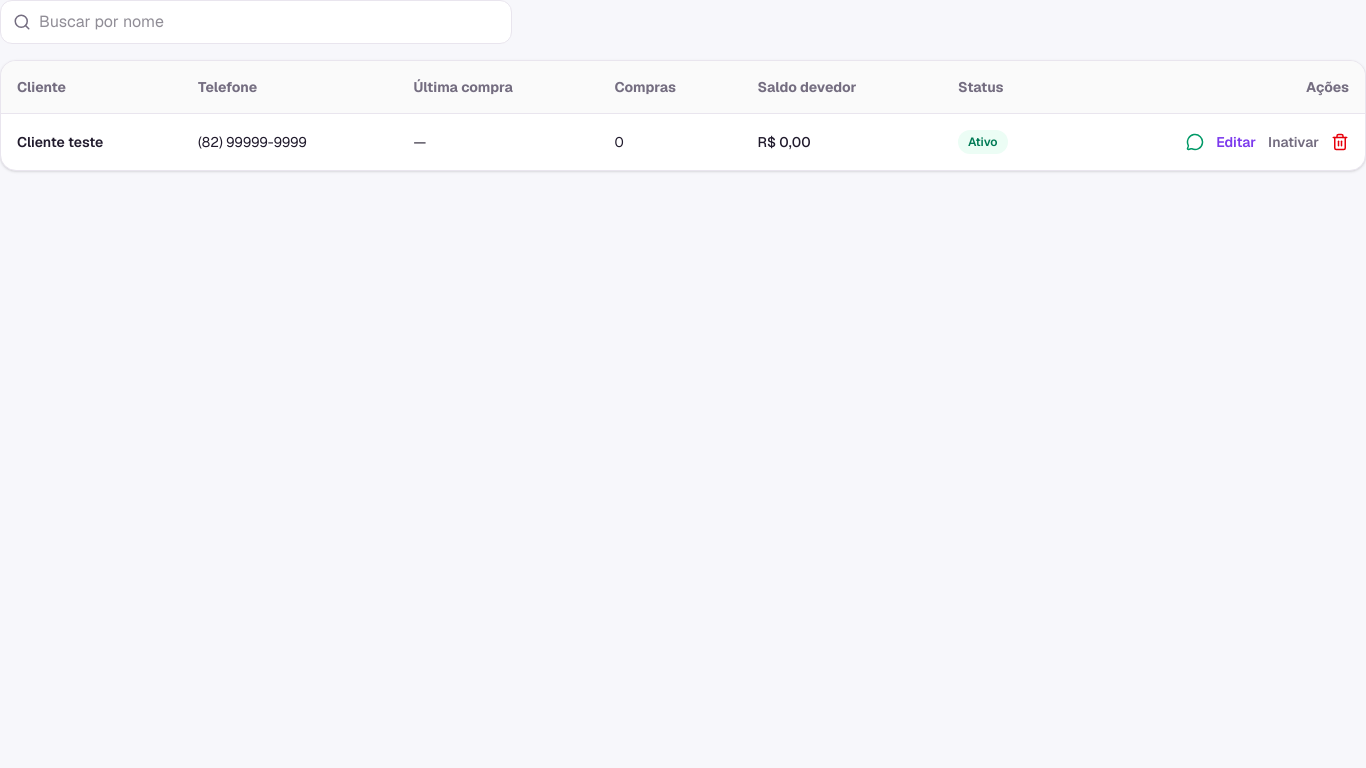
Test: CustomerList › asks for confirmation when the customer has no completed sales
Click the button named "excluir cliente teste": (1340, 142) [1331,133,1349,151]
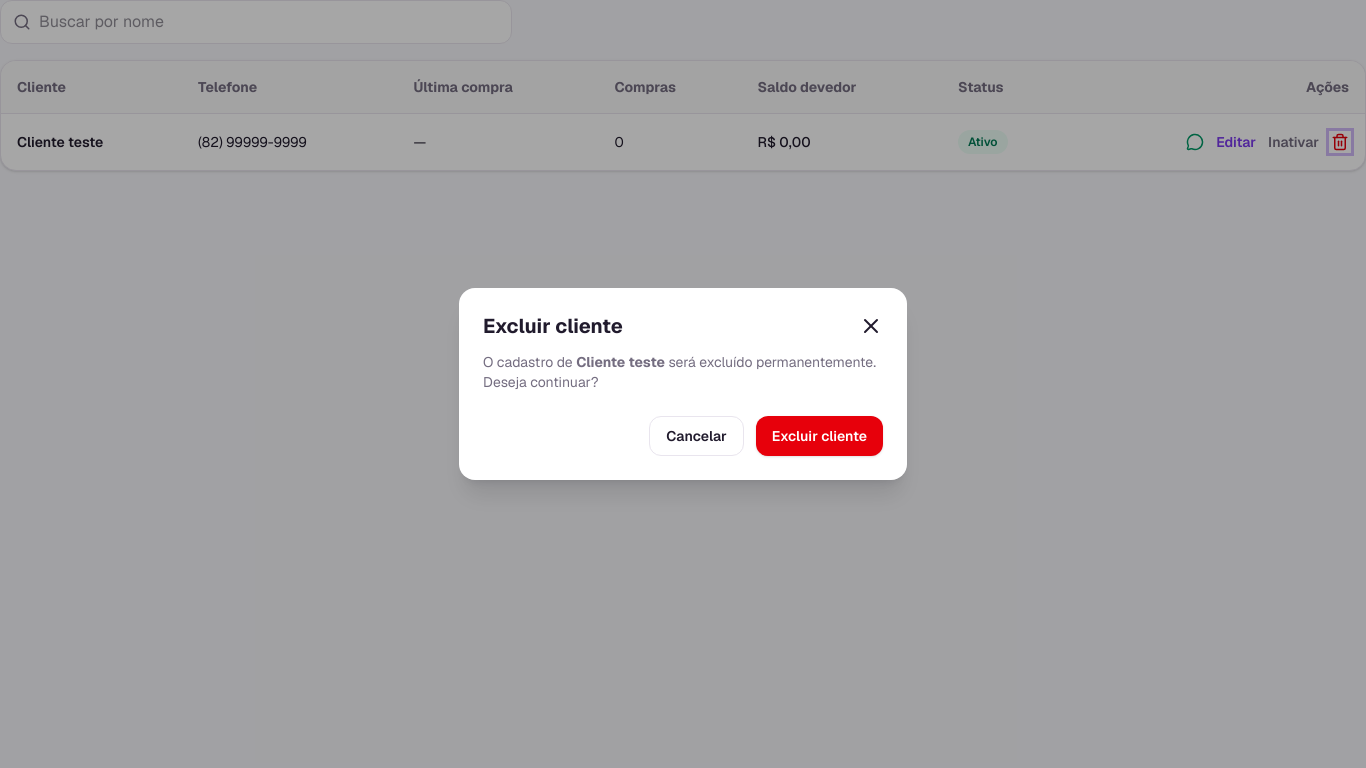
Now the dialog "Excluir cliente" is shown, box [459,288,907,480]
Now the text "será excluído permanentemente" is shown, box [483,353,876,391]
